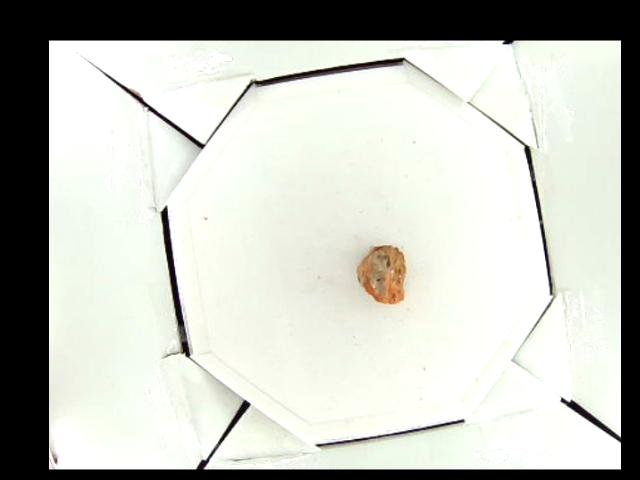Brisk: (357, 246, 407, 302)
